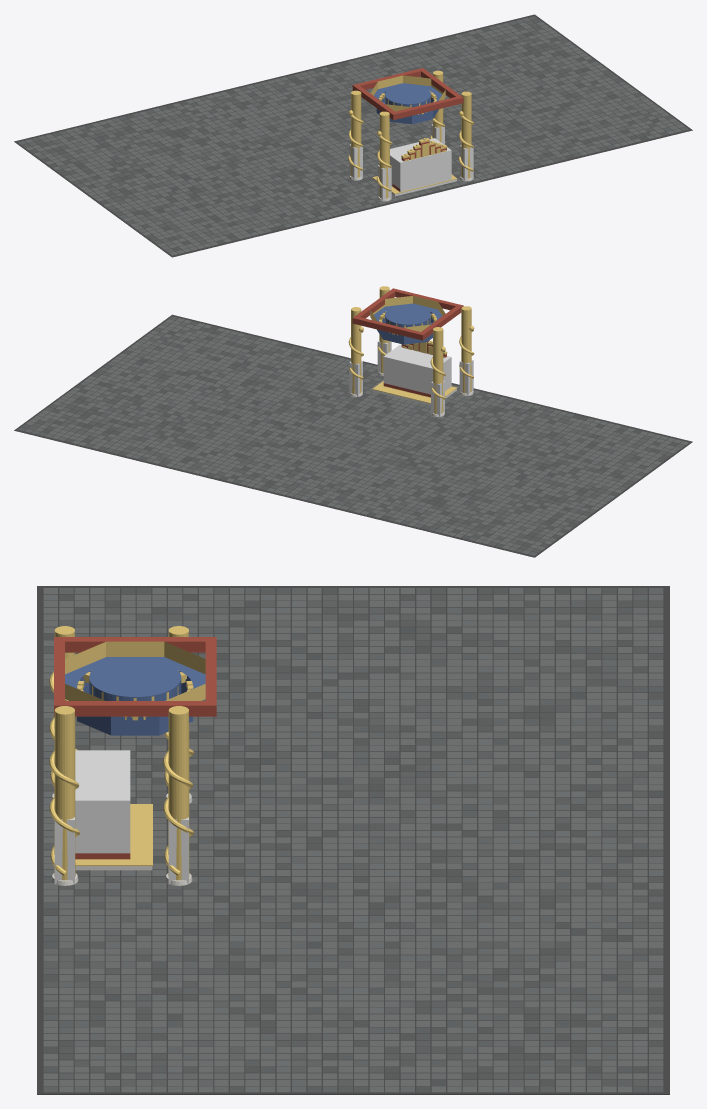
Rendered from huangji.glb.
The picture shows the model from 3 angles, top to bottom: view 1: azimuth 30°, elevation 25°; view 2: azimuth 150°, elevation 25°; view 3: azimuth 270°, elevation 25°; orthographic projection. The views are drawn at different scales.
Parts seen in each view (by area): view 1: floor_tiles, floor_base, merged_gold_lacquer, COL_dais, merged_red_lacquer, merged_caisson_blue; view 2: floor_tiles, floor_base, merged_gold_lacquer, COL_dais, merged_red_lacquer, merged_caisson_blue; view 3: floor_tiles, floor_base, merged_gold_lacquer, merged_caisson_blue, COL_dais, merged_red_lacquer, COL_3, COL_1.
Part boxes in pixels (bbox=[...]): floor_tiles: bbox=[18, 16, 688, 255]; floor_base: bbox=[14, 14, 692, 257]; merged_gold_lacquer: bbox=[348, 70, 474, 198]; COL_dais: bbox=[390, 138, 451, 194]; merged_red_lacquer: bbox=[352, 68, 463, 191]; merged_caisson_blue: bbox=[374, 83, 442, 124]; floor_tiles: bbox=[18, 316, 688, 555]; floor_base: bbox=[14, 314, 692, 557]; merged_gold_lacquer: bbox=[348, 286, 474, 413]; COL_dais: bbox=[383, 344, 451, 394]; merged_red_lacquer: bbox=[352, 288, 463, 397]; merged_caisson_blue: bbox=[374, 303, 442, 344]; floor_tiles: bbox=[43, 588, 663, 1092]; floor_base: bbox=[37, 586, 669, 1094]; merged_gold_lacquer: bbox=[49, 626, 205, 880]; merged_caisson_blue: bbox=[65, 657, 205, 735]; COL_dais: bbox=[75, 750, 130, 853]; merged_red_lacquer: bbox=[54, 637, 216, 859]; COL_3: bbox=[54, 817, 74, 884]; COL_1: bbox=[168, 817, 188, 884].
Size of the model in its own units: 49.6 by 7.79 by 26.1.
